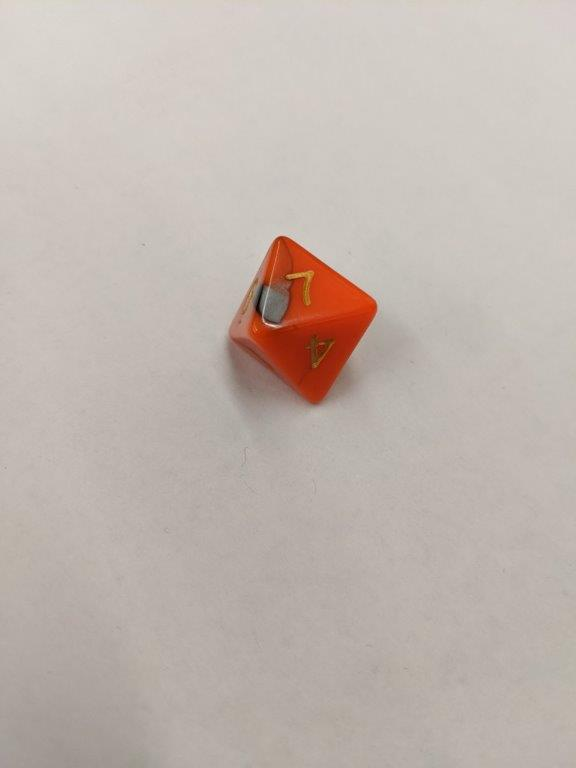d8-7: (228, 234, 380, 405)
